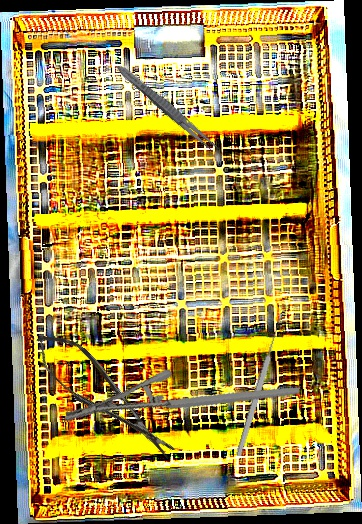Dressing Forceps: (113, 61, 224, 157)
Micro Scissor: (26, 320, 183, 474)
Needle Holder: (63, 336, 301, 473)
Surgical Spoon: (234, 313, 286, 457)
